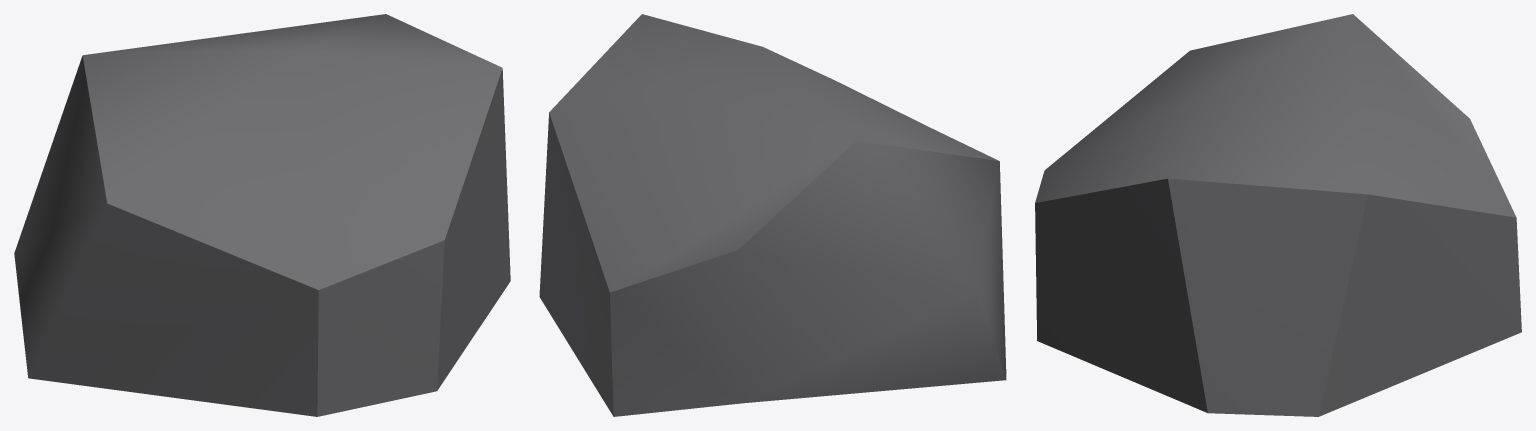
The model's file is Stone_03.fbx.
3 renders of one model, left to right at view 1: azimuth 30°, elevation 25°; view 2: azimuth 150°, elevation 25°; view 3: azimuth 270°, elevation 25°, orthographic. The views are drawn at different scales.
Visible parts, largest first — view 1: Stone_03; view 2: Stone_03; view 3: Stone_03.
Part boxes in pixels (bbox=[...]): Stone_03: bbox=[14, 14, 510, 416]; Stone_03: bbox=[539, 14, 1006, 416]; Stone_03: bbox=[1035, 14, 1521, 416].
Bounding box in the file's own units: 113 × 64.78 × 112.
